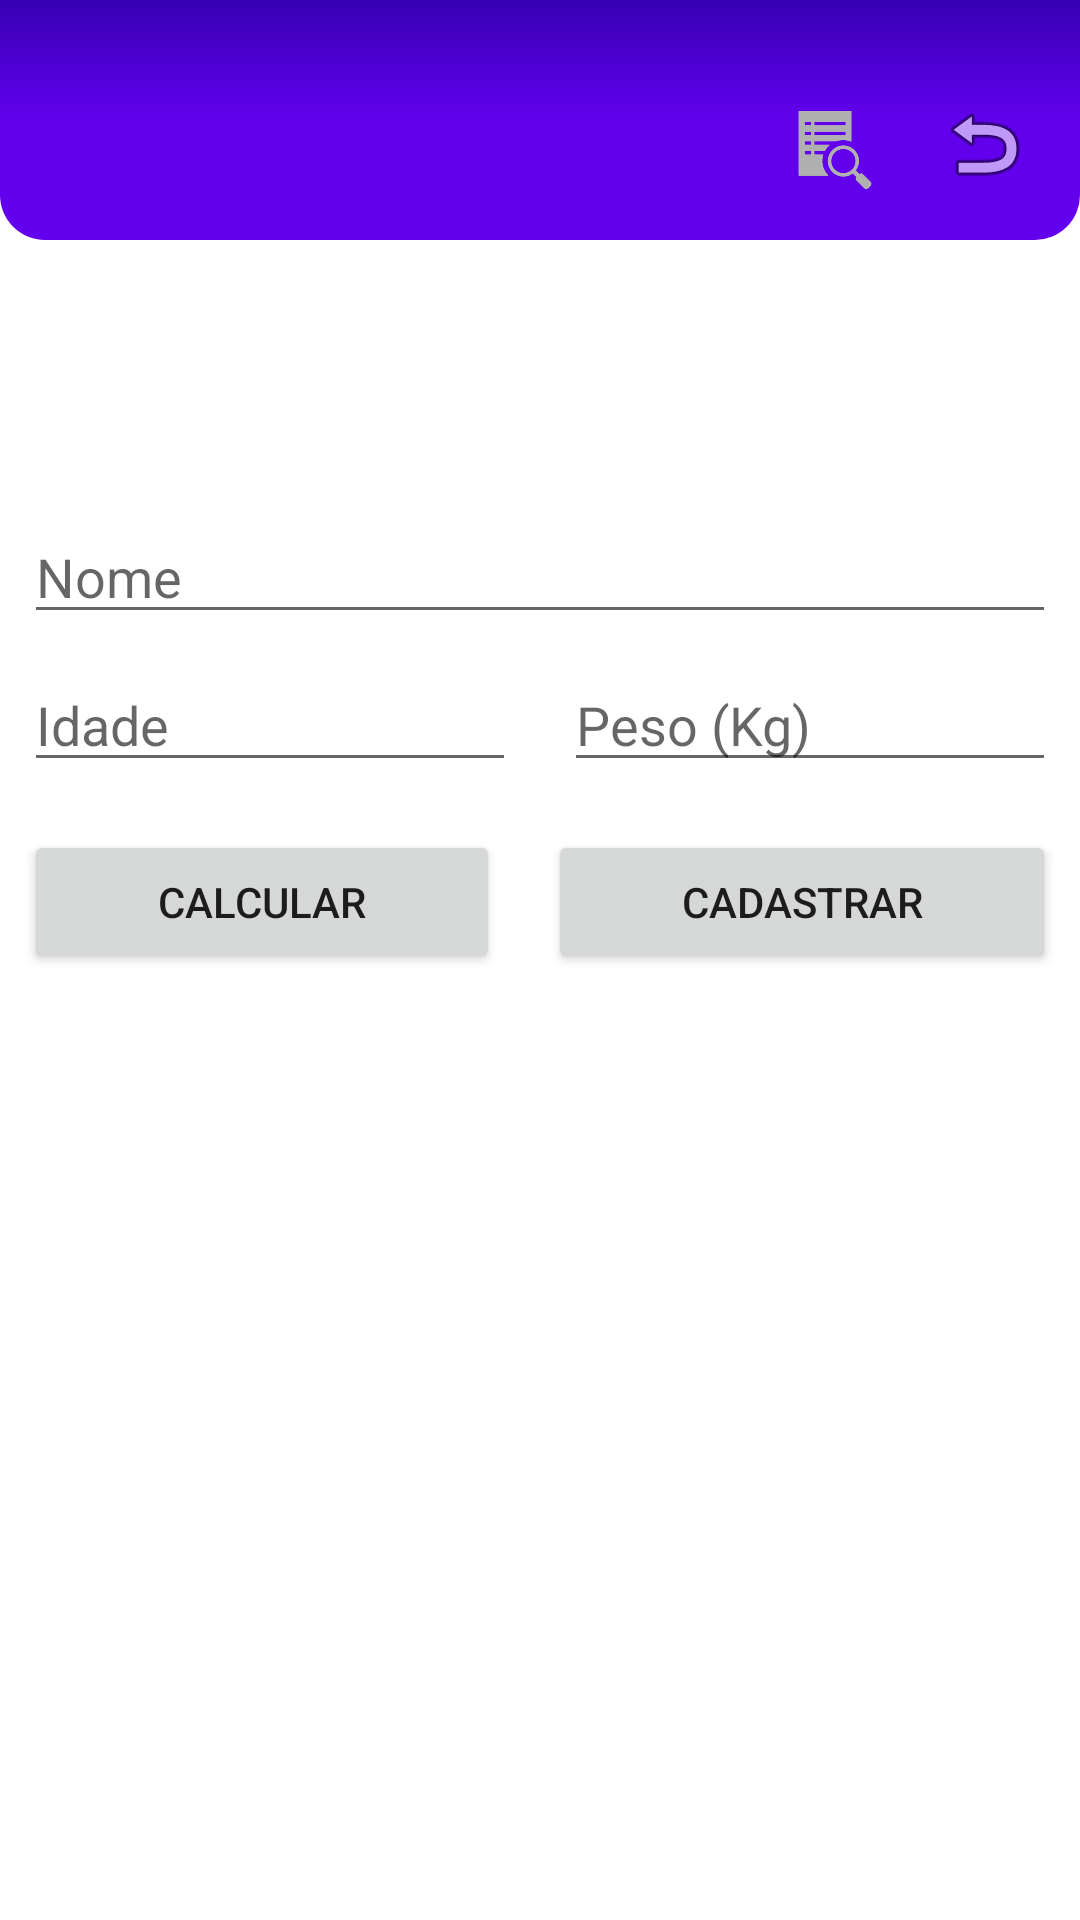

Where icons sit on this 1080px×1920px app screen, as (x1, y1, x2, y2):
revert: (951, 113, 1020, 176)
